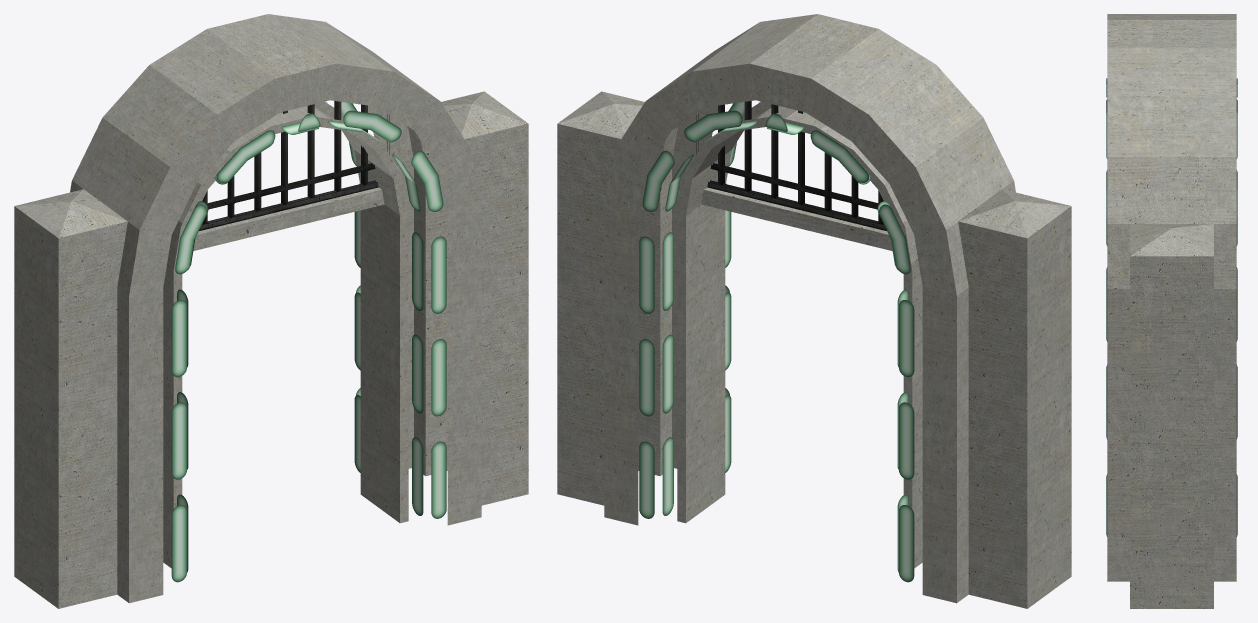
The model's file is thm_corl_imprv_gate_sm_s02_l0.fbx.
3 renders of one model, left to right at view 1: azimuth 30°, elevation 25°; view 2: azimuth 150°, elevation 25°; view 3: azimuth 270°, elevation 25°, orthographic. The views are drawn at different scales.
Visible parts, largest first — view 1: mesh_node; view 2: mesh_node; view 3: mesh_node.
Part boxes in pixels (x1,y1,x2,y2): mesh_node: (14, 14, 528, 608); mesh_node: (557, 14, 1071, 608); mesh_node: (1106, 14, 1237, 608).
Bounding box in the file's own units: 8 × 7.95 × 2.23.
